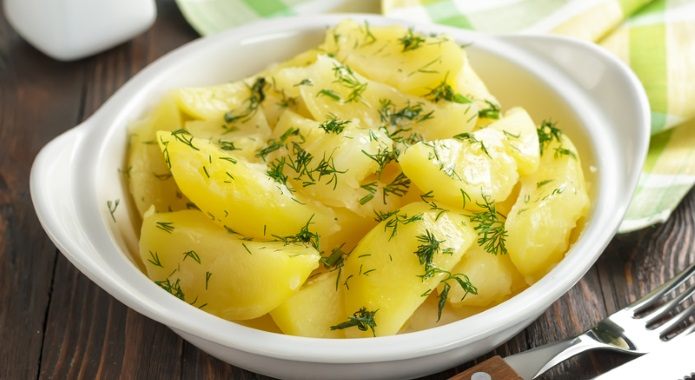boiled potatoes: (132, 36, 565, 308)
